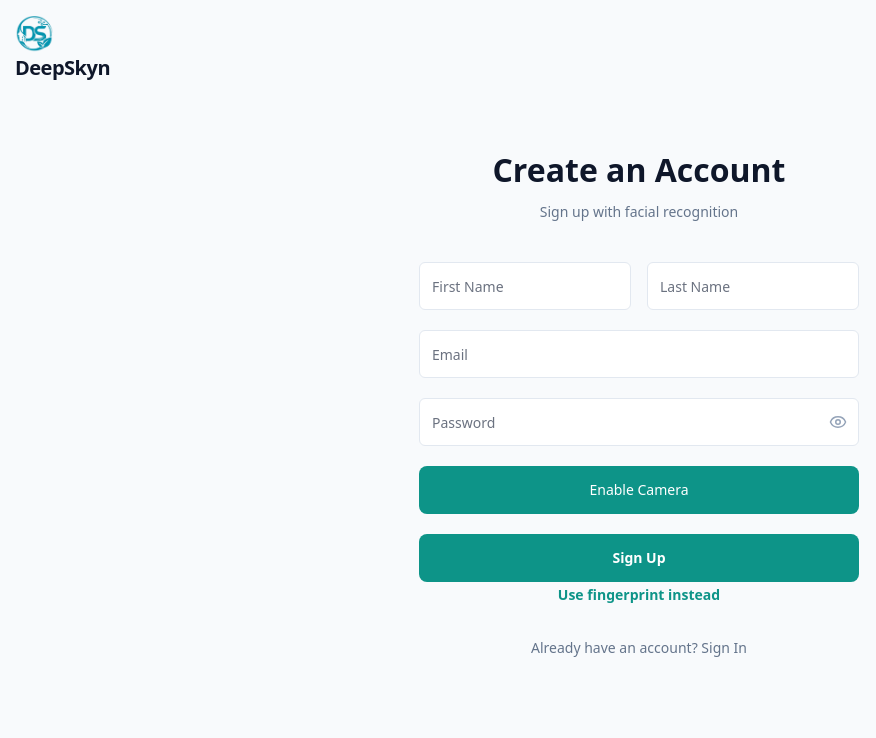
it: RegisterPage Component › shows error if face is not captured
Click the button "Sign Up" at (639, 558), box [419,534,859,582]
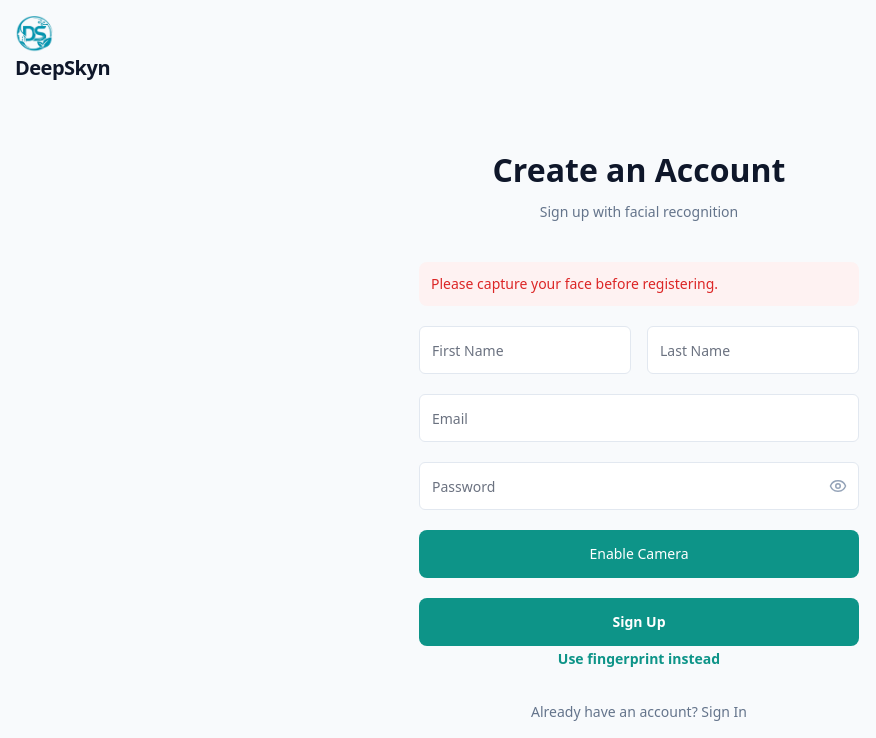
Expected: the text "Please capture your face before registering." is shown, [419,262,859,306]
